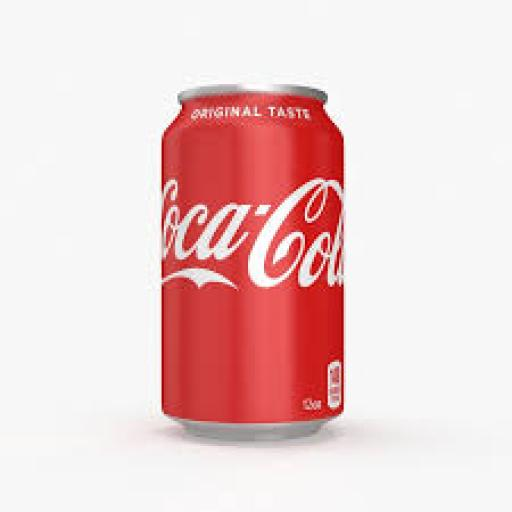Coca: (154, 76, 356, 449)
